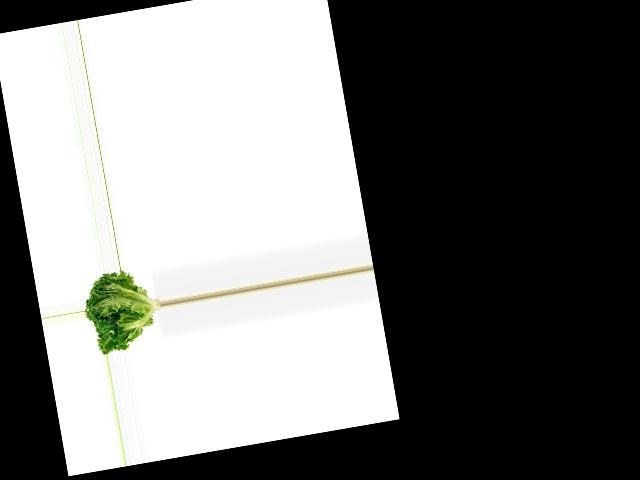lettuce: (80, 264, 167, 355)
